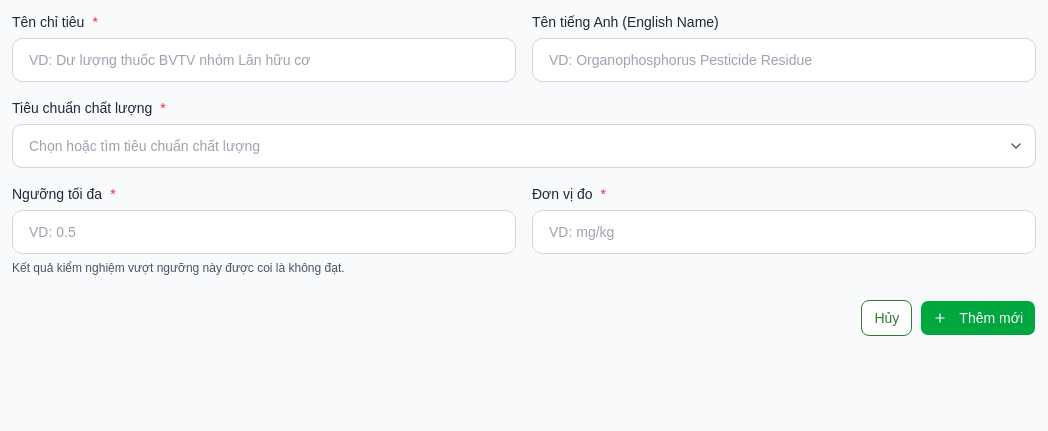
InspectionCriterionFormContent › bắt buộc nhập Tên chỉ tiêu, Đơn vị đo, Ngưỡng tối đa và chọn Tiêu chuẩn
Click the button "Thêm mới".
click(978, 318)  # box [920, 300, 1036, 336]
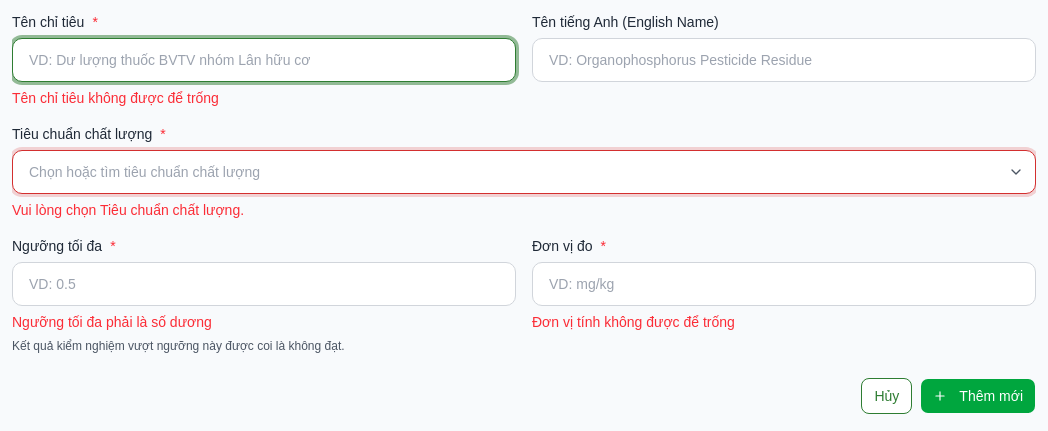
expect the text "Tên chỉ tiêu không được để trống" is shown: met, box [12, 90, 219, 106]
expect the text "Đơn vị tính không được để trống" is shown: met, box [532, 314, 735, 330]
expect the text "Ngưỡng tối đa phải là số dương" is shown: met, box [12, 314, 212, 330]
